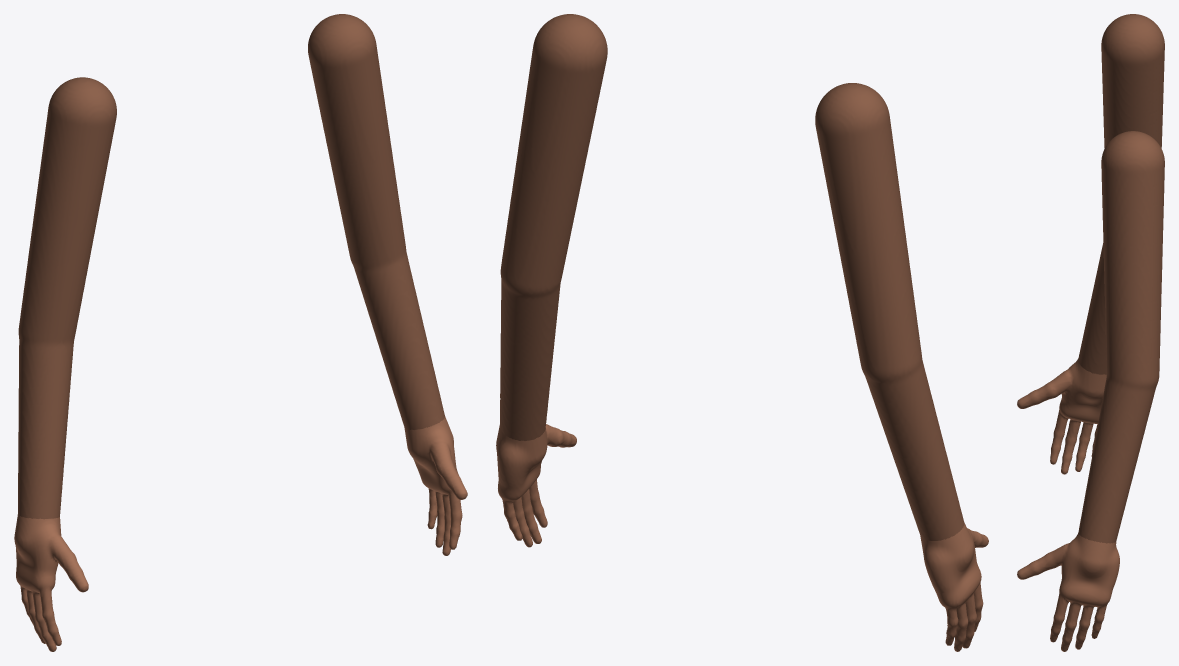
The model's file is hands-open.glb.
3 renders of one model, left to right at view 1: azimuth 30°, elevation 25°; view 2: azimuth 150°, elevation 25°; view 3: azimuth 270°, elevation 25°, orthographic. The views are drawn at different scales.
Visible parts, largest first — view 1: arms, hands; view 2: arms, hands; view 3: arms, hands.
Part boxes in pixels (bbox=[...]): arms: bbox=[17, 14, 444, 519]; hands: bbox=[14, 416, 467, 651]; arms: bbox=[500, 14, 964, 540]; hands: bbox=[496, 424, 988, 651]; arms: bbox=[1078, 14, 1164, 543]; hands: bbox=[1017, 359, 1119, 651].
Size of the model in its own units: 0.6674 by 0.7768 by 0.2135.
